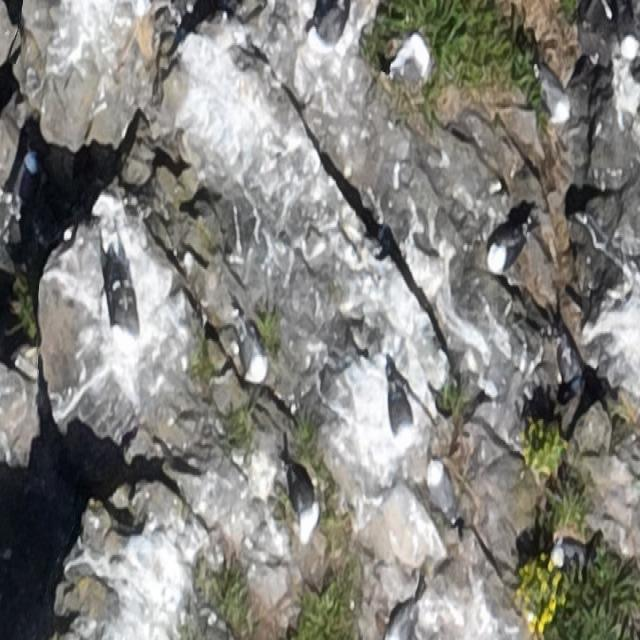umineko: (285, 456, 323, 546), (388, 371, 415, 448), (238, 328, 267, 395), (429, 456, 457, 522), (312, 7, 348, 56), (486, 233, 526, 274), (550, 542, 590, 572), (541, 76, 567, 120), (18, 156, 36, 203), (114, 274, 124, 346), (124, 297, 138, 348)
